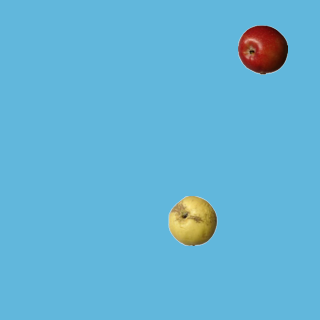Apple Braeburn: (237, 24, 287, 74)
Apple Golden 1: (167, 195, 217, 245)
